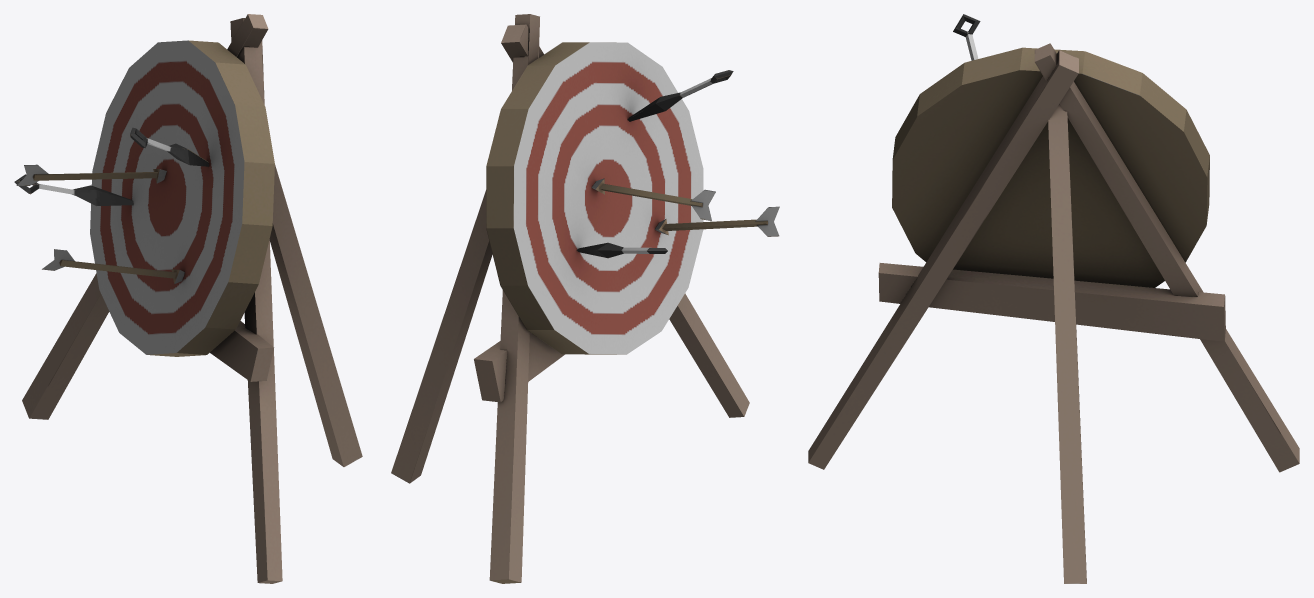
The model's file is target.glb.
3 views of the same model, side by side, from view 1: azimuth 30°, elevation 25°; view 2: azimuth 150°, elevation 25°; view 3: azimuth 270°, elevation 25° (orthographic).
Parts seen in each view (by area): view 1: Cylinder.041; view 2: Cylinder.041; view 3: Cylinder.041.
Boxes of the visible parts, box(x1,y1,x2,y2) form: Cylinder.041: box(14, 14, 362, 583); Cylinder.041: box(391, 14, 779, 583); Cylinder.041: box(808, 14, 1299, 583).
Size of the model in its own units: 1.02 by 1.35 by 1.23.
Materials: 1 (1 with a texture image).
